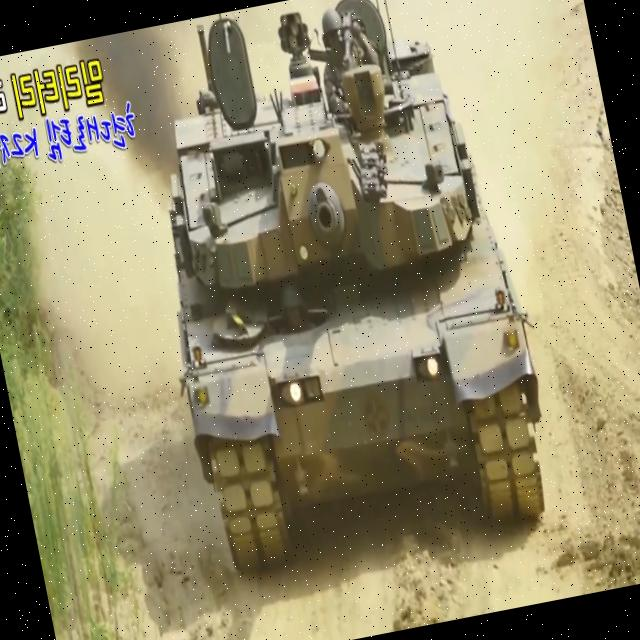korea tank: (114, 0, 564, 581)
